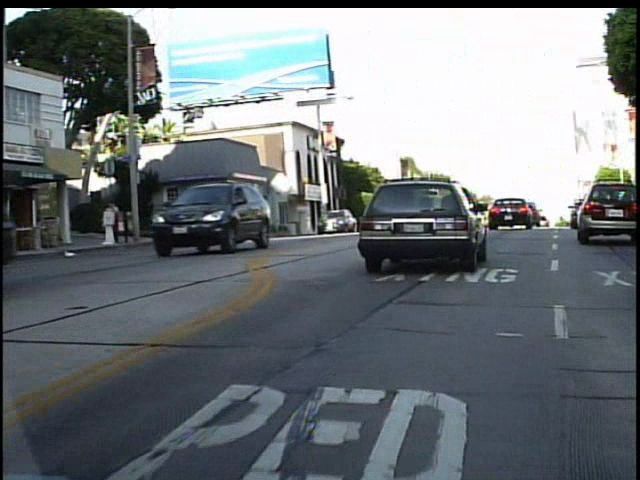person: (109, 197, 133, 247)
